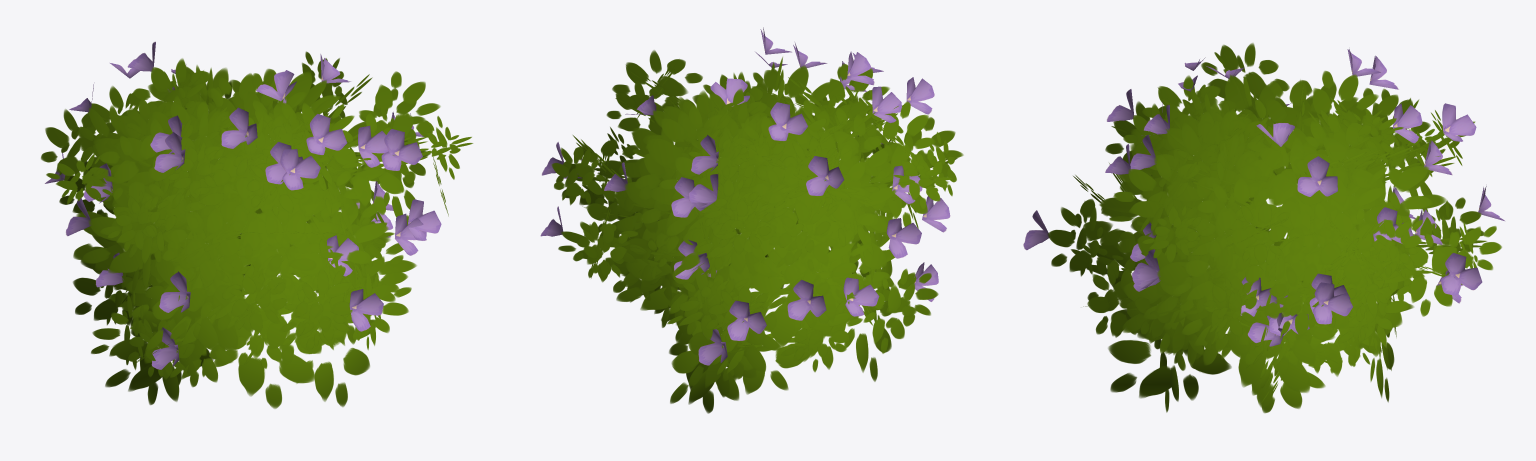
The model's file is bush-flowers-1.glb.
3 renders of one model, left to right at view 1: azimuth 30°, elevation 25°; view 2: azimuth 150°, elevation 25°; view 3: azimuth 270°, elevation 25°, orthographic. The views are drawn at different scales.
Visible parts, largest first — view 1: Bush_Common_Flowers; view 2: Bush_Common_Flowers; view 3: Bush_Common_Flowers.
Boxes of the visible parts, <box> form: Bush_Common_Flowers: <box>41,41,472,408</box>; Bush_Common_Flowers: <box>540,27,963,413</box>; Bush_Common_Flowers: <box>1023,43,1504,412</box>.
Size of the model in its own units: 1.91 by 1.58 by 1.97.
Materials: 2 (2 with a texture image).
